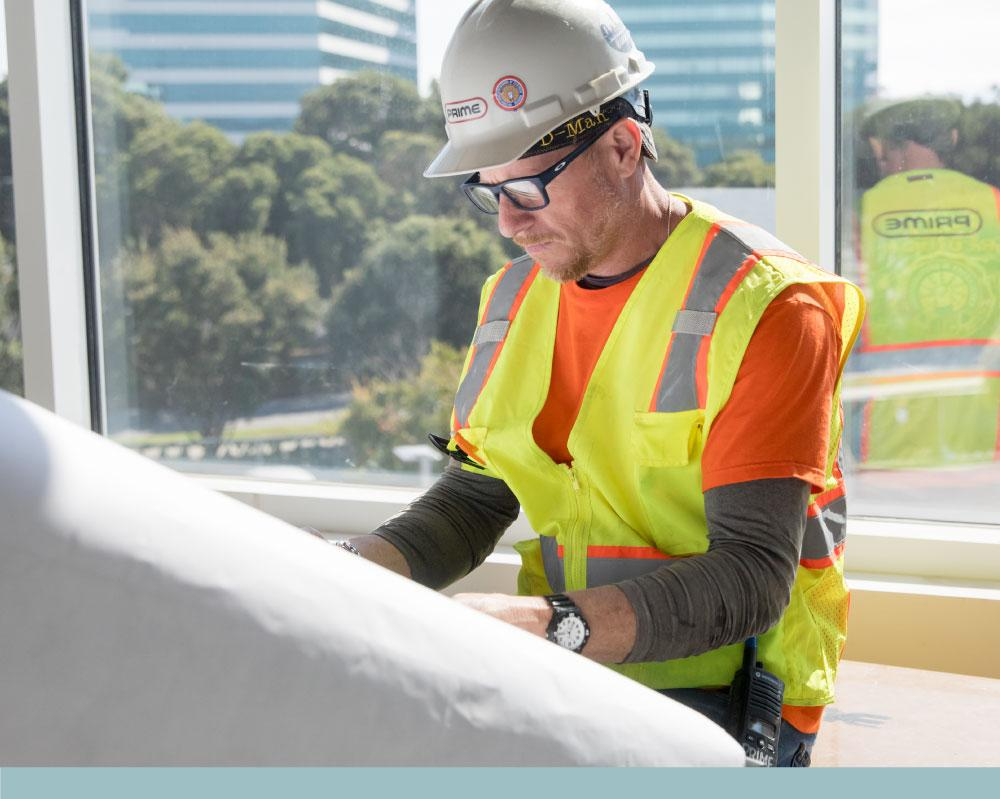helmet: (421, 1, 660, 185)
